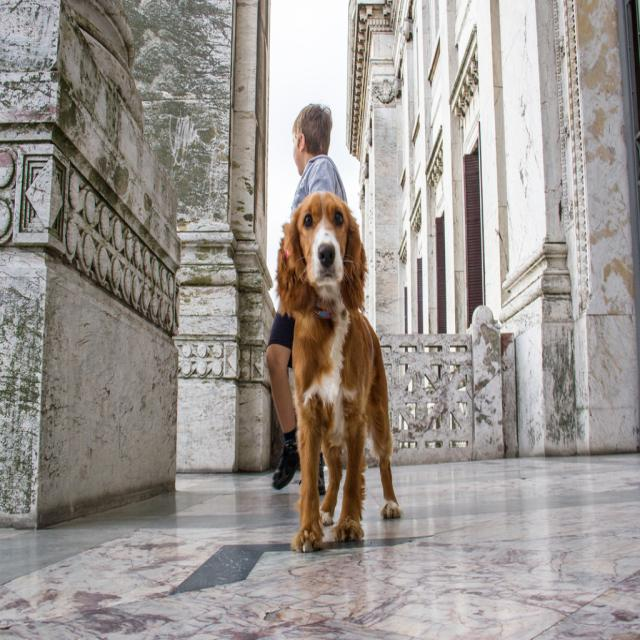Dog: (274, 190, 402, 554)
